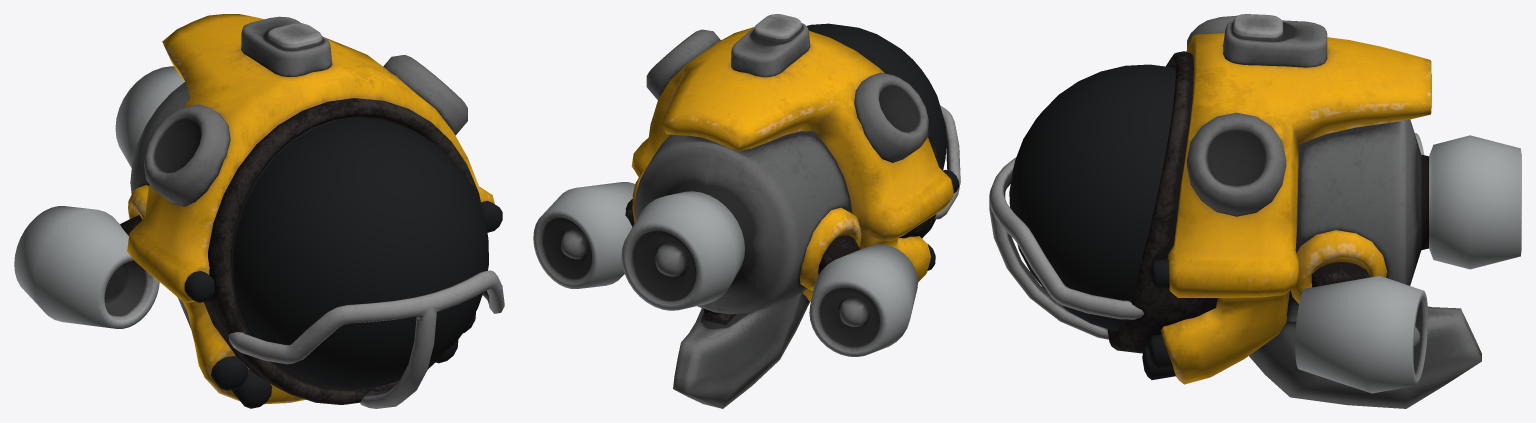
The model's file is player_old_LOD0.gltf.
3 renders of one model, left to right at view 1: azimuth 30°, elevation 25°; view 2: azimuth 150°, elevation 25°; view 3: azimuth 270°, elevation 25°, orthographic. The views are drawn at different scales.
Visible parts, largest first — view 1: Object_2; view 2: Object_2; view 3: Object_2.
Boxes of the visible parts, x1,y1,x2,y2 form: Object_2: [14, 14, 504, 408]; Object_2: [533, 14, 960, 408]; Object_2: [989, 14, 1521, 408].
Bounding box in the file's own units: 4.9 × 4.37 × 5.52.
Materials: 1 (1 with a texture image).
